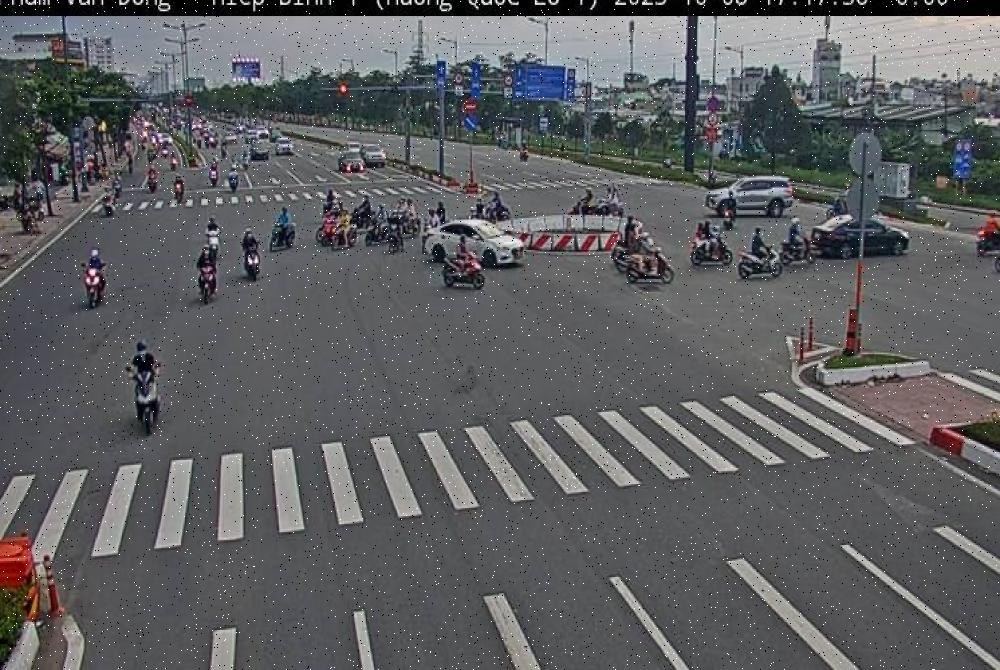car: (423, 217, 527, 265), (810, 213, 913, 259), (705, 174, 796, 219)
motorbike: (126, 361, 165, 439), (623, 245, 680, 284), (440, 249, 490, 292), (80, 258, 106, 307)
